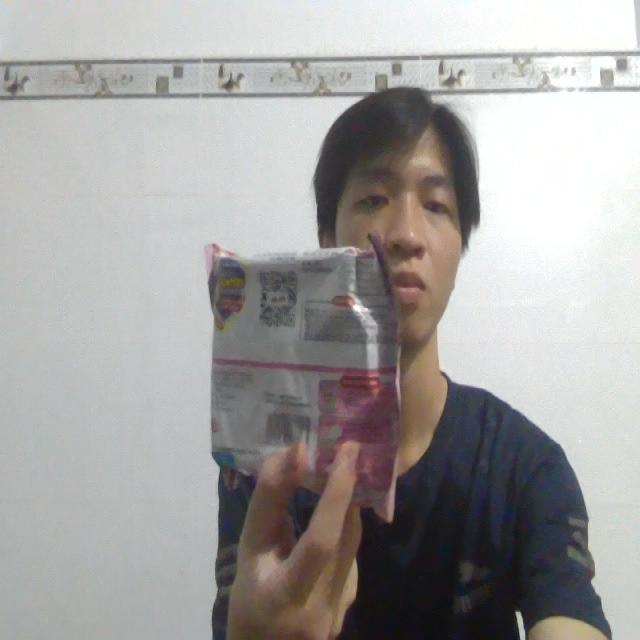mi hao hao: (169, 214, 445, 538)
